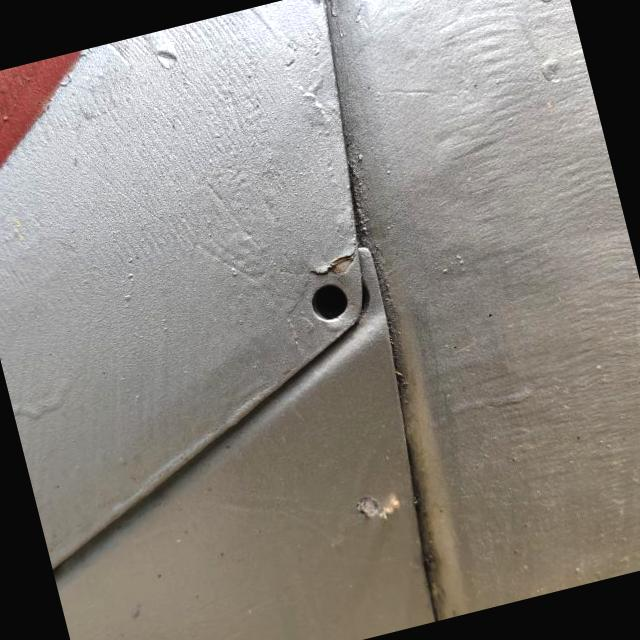Missing Fastener: (309, 280, 350, 322)
